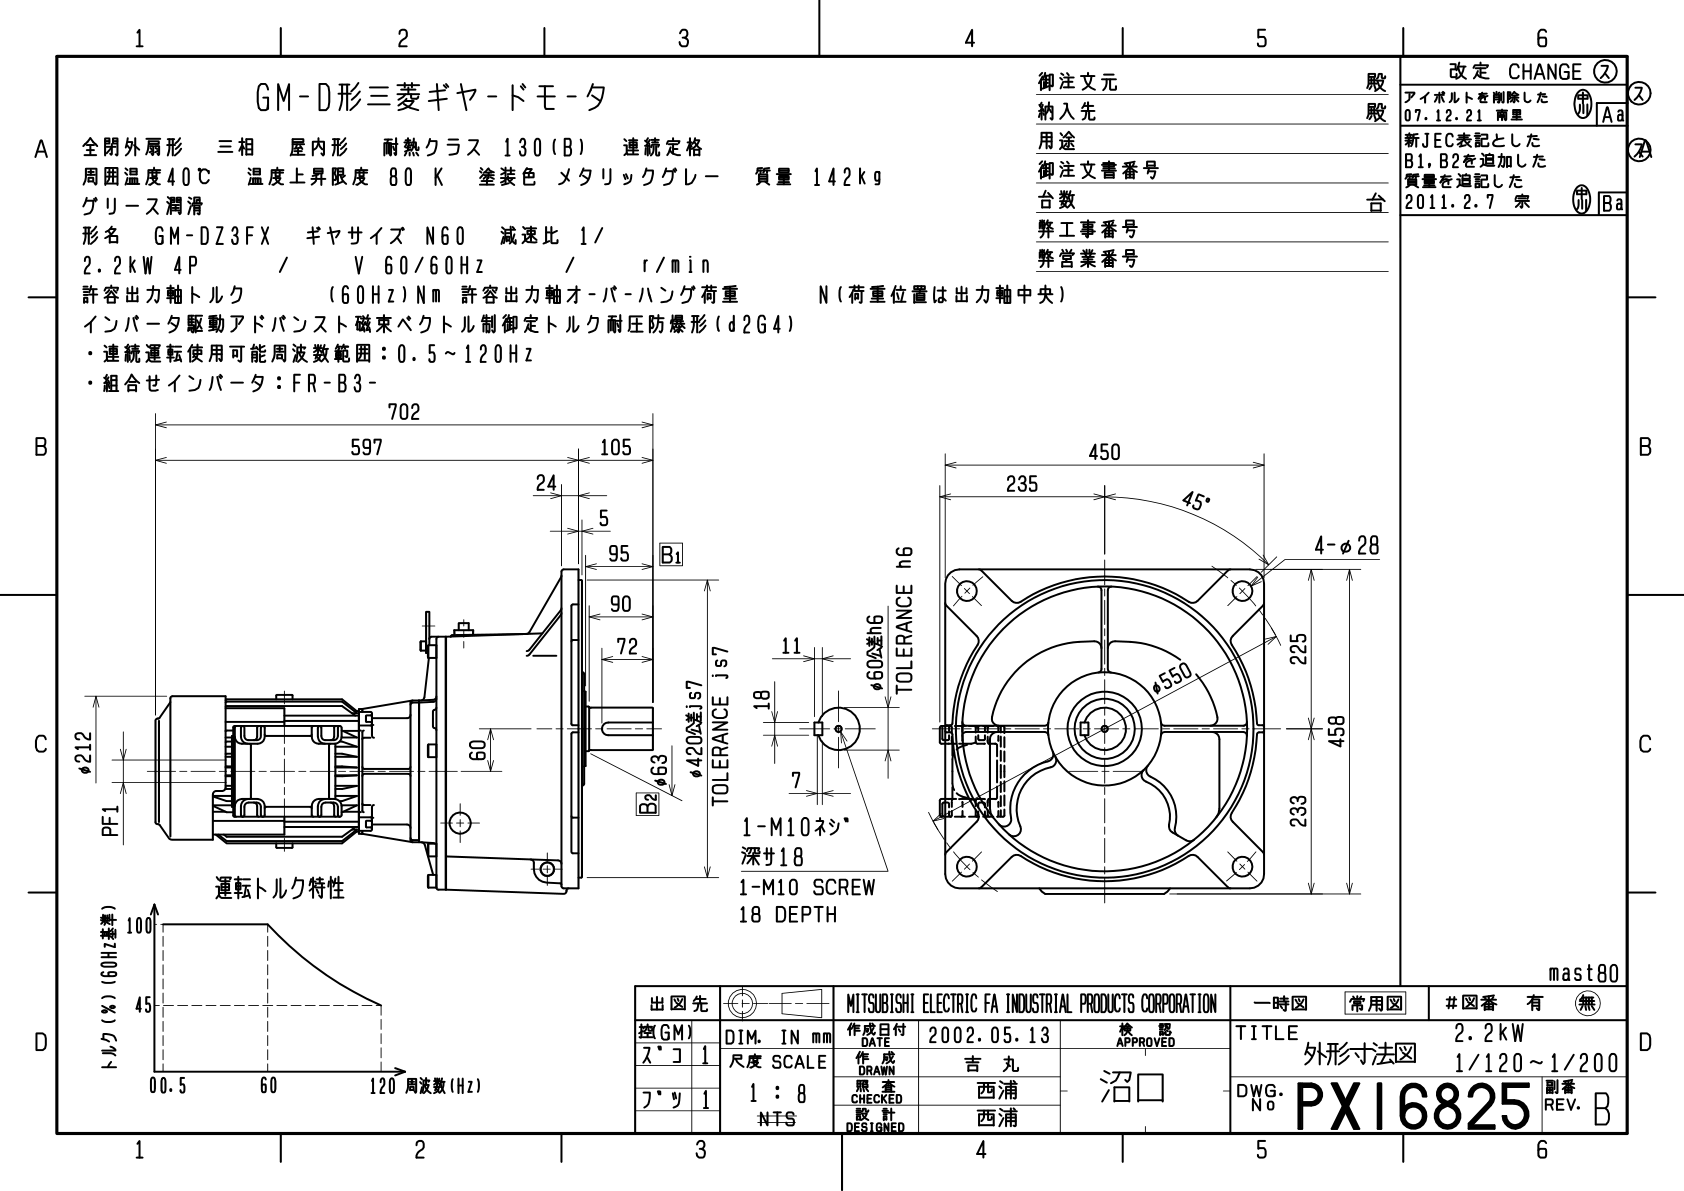GM_D_制御屋内_三相_フランジ: (63, 394, 1389, 969)
